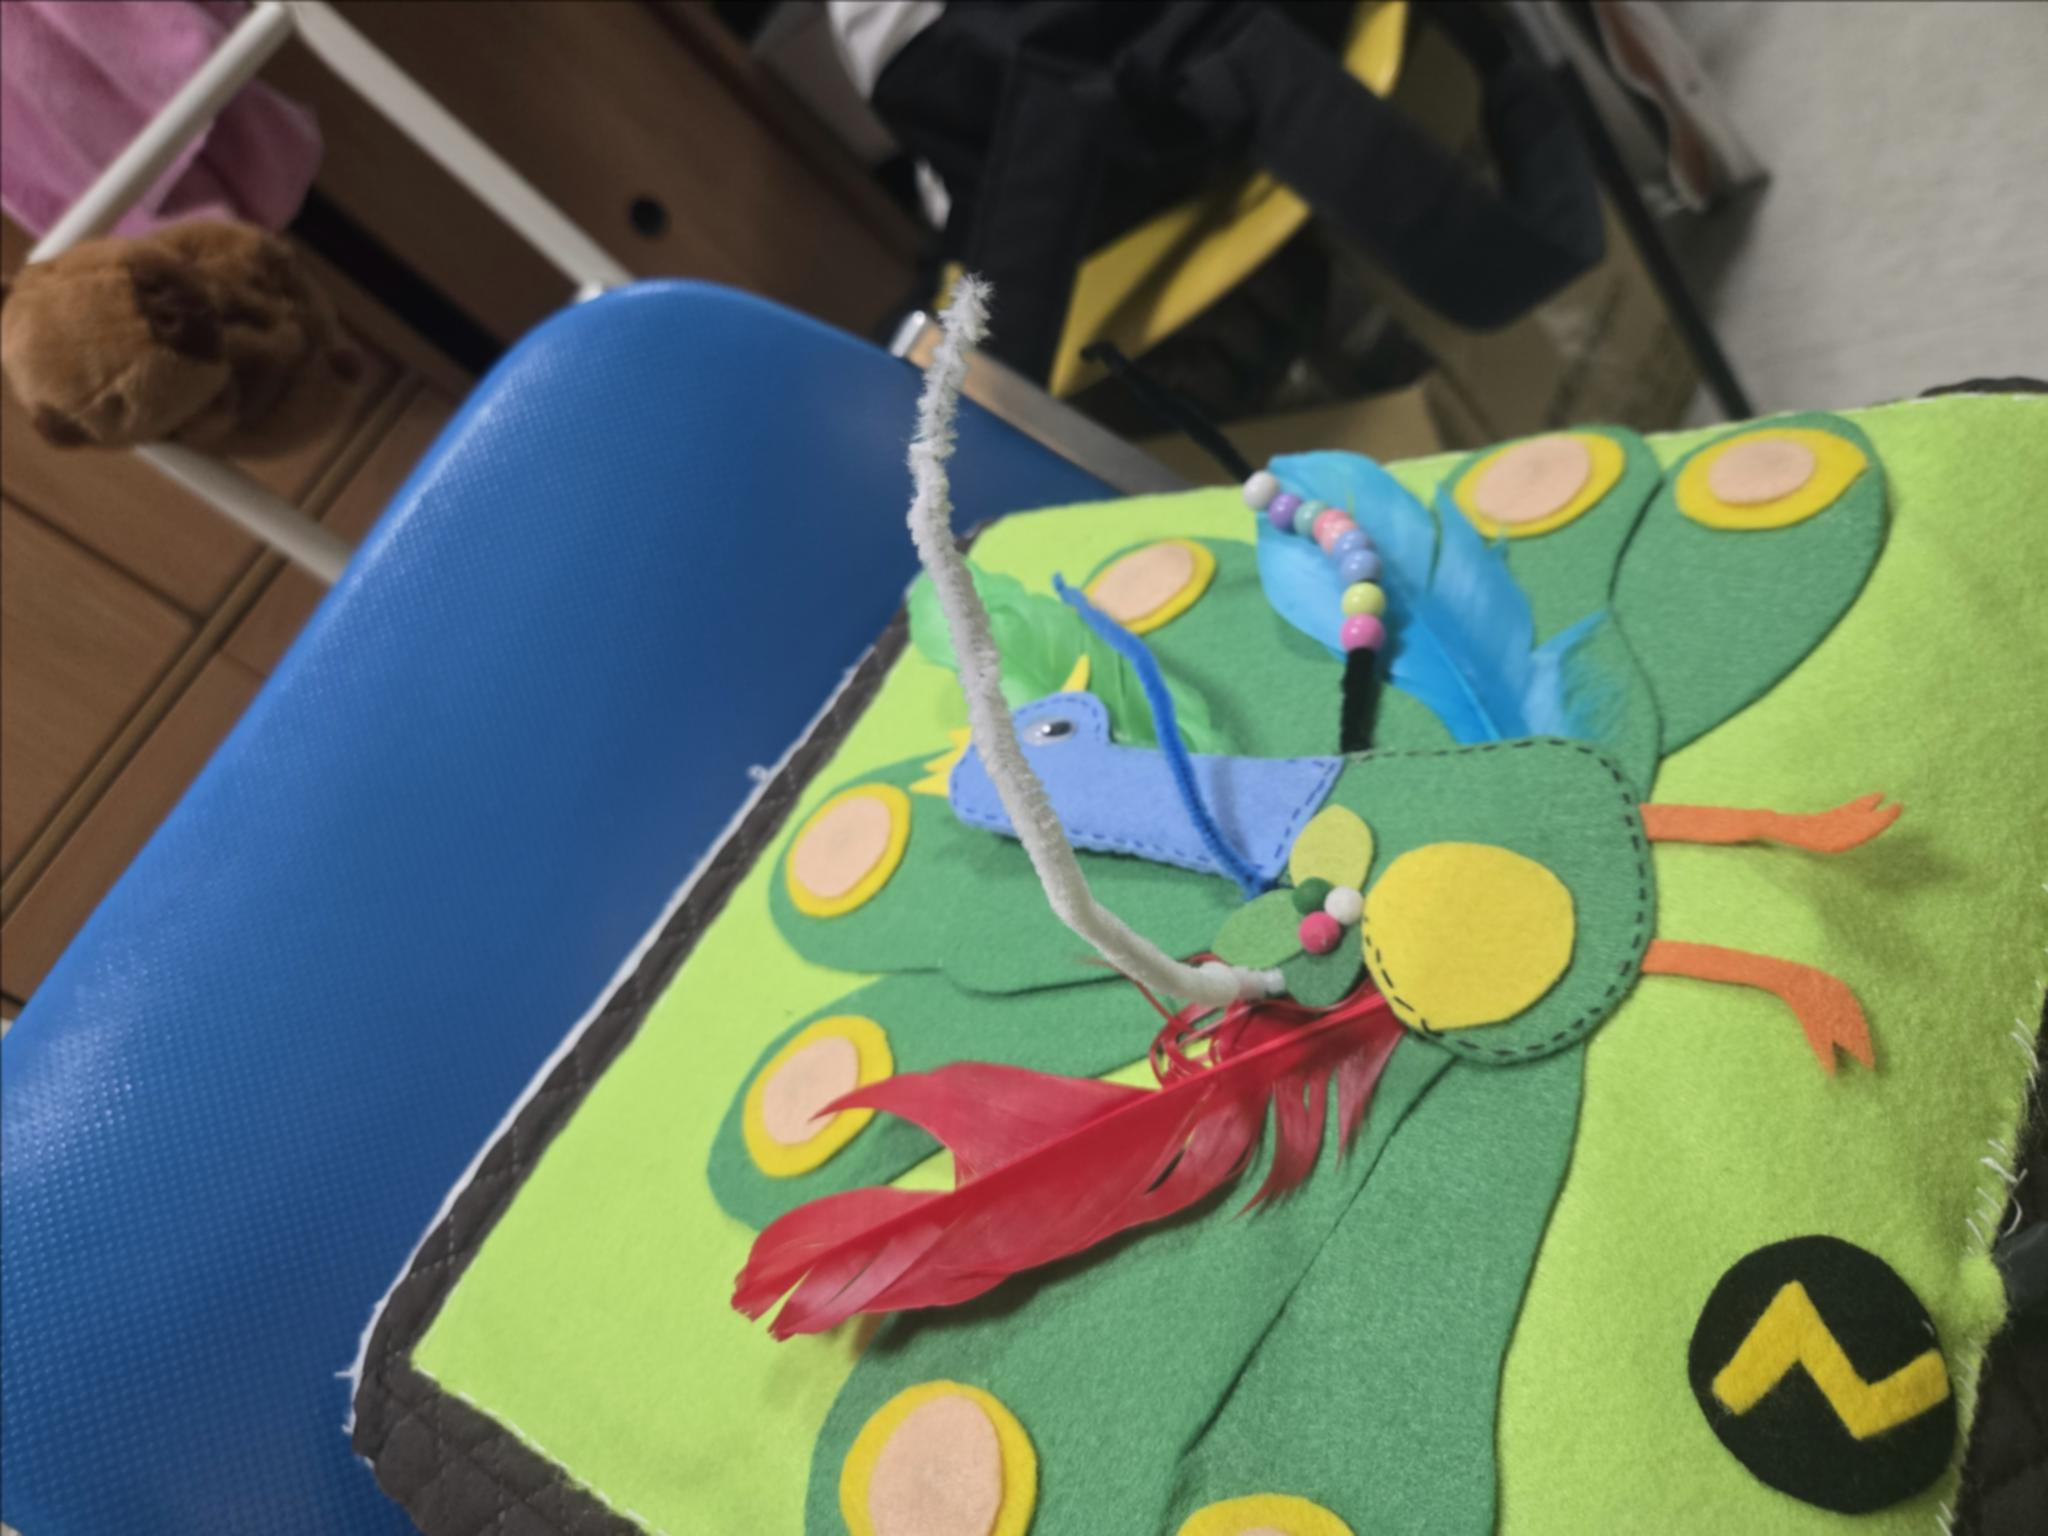bead: (1338, 574, 1387, 620), (1329, 523, 1377, 558), (1342, 549, 1387, 586), (1345, 615, 1387, 653), (1269, 482, 1300, 529), (1243, 457, 1274, 503), (1321, 502, 1351, 545), (1290, 502, 1316, 545)
